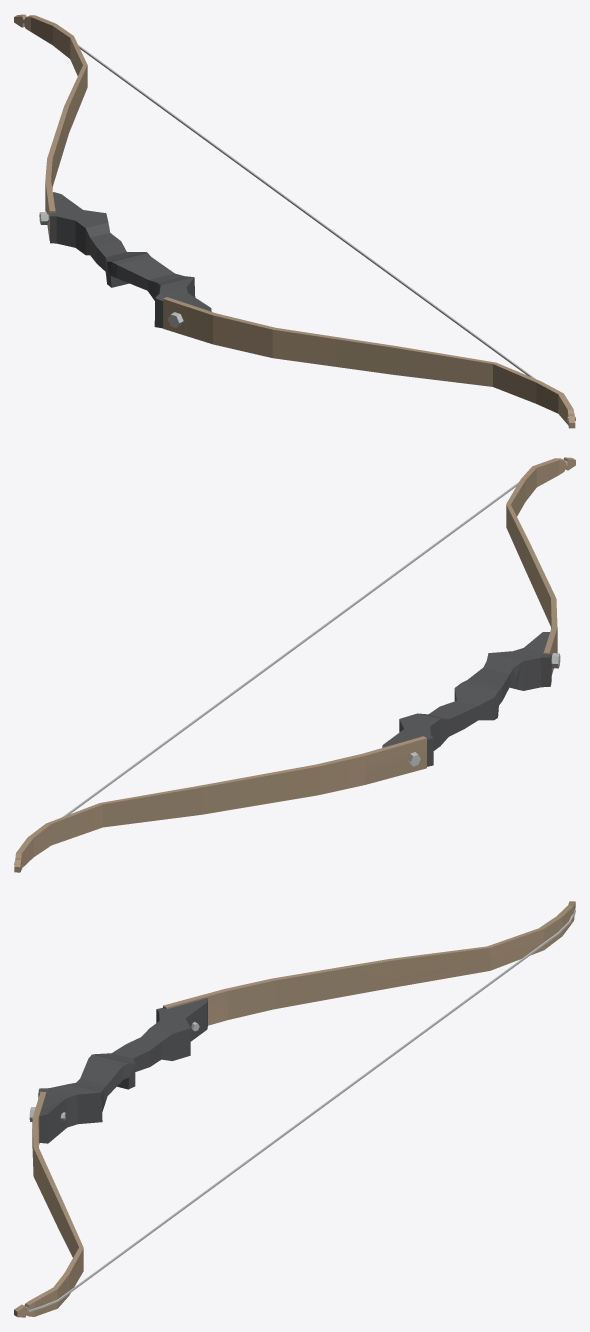
File: bow_b.glb
The picture shows the model from 3 angles, top to bottom: view 1: azimuth 30°, elevation 25°; view 2: azimuth 150°, elevation 25°; view 3: azimuth 330°, elevation 25°; orthographic projection.
Visible parts, largest first — view 1: Bow; view 2: Bow; view 3: Bow.
Part boxes in pixels (x1,y1,x2,y2): Bow: (14, 14, 575, 428); Bow: (14, 457, 575, 872); Bow: (14, 901, 575, 1317).
Bounding box in the file's own units: 0.2922 × 0.0392 × 1.3.
1 material, 1 textured.
